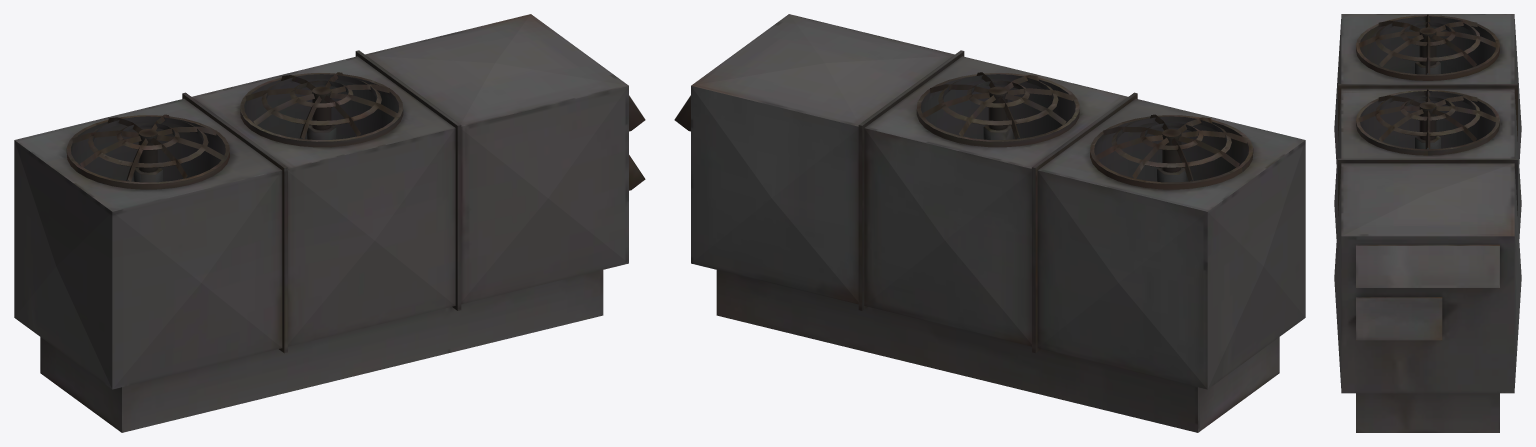
The picture shows the model from 3 angles, left to right: view 1: azimuth 30°, elevation 25°; view 2: azimuth 150°, elevation 25°; view 3: azimuth 270°, elevation 25°; orthographic projection. The views are drawn at different scales.
Visible parts, largest first — view 1: body0_model0_lod0_mesh0; view 2: body0_model0_lod0_mesh0; view 3: body0_model0_lod0_mesh0.
Part boxes in pixels (x1,y1,x2,y2): body0_model0_lod0_mesh0: (14, 14, 645, 432); body0_model0_lod0_mesh0: (674, 14, 1305, 432); body0_model0_lod0_mesh0: (1334, 14, 1521, 432).
Bounding box in the file's own units: 310 × 137 × 104.
Materials: 1 (1 with a texture image).
